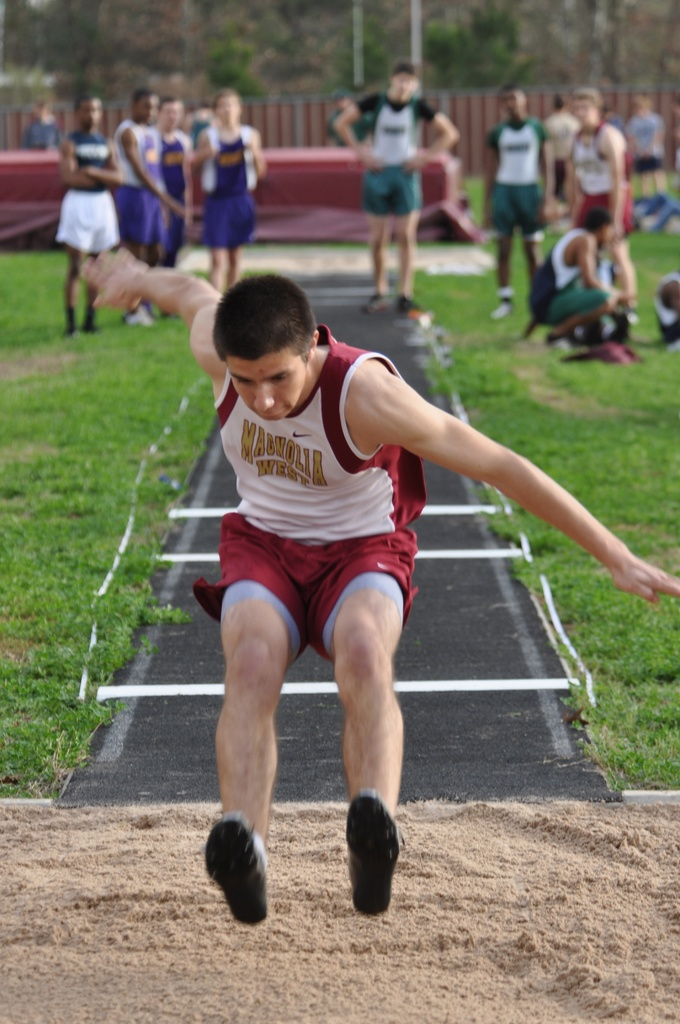Person: (520, 209, 615, 356), (626, 86, 664, 189)
